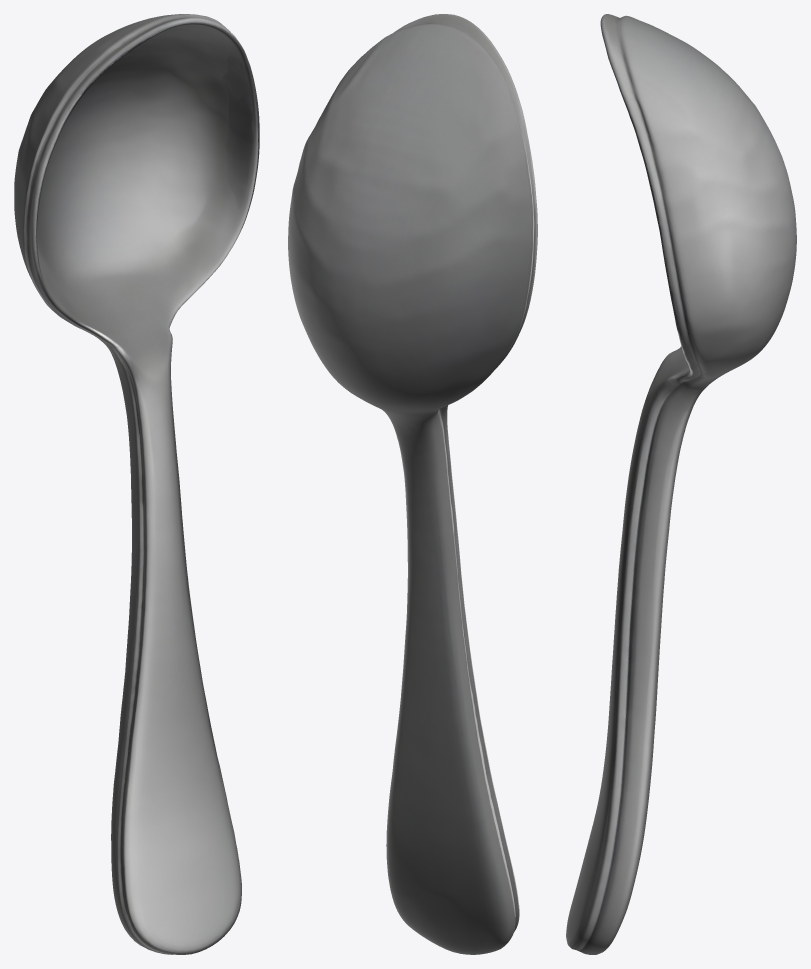
Rendered from model_soup_spoon.glb.
3 views of the same model, side by side, from view 1: azimuth 30°, elevation 25°; view 2: azimuth 150°, elevation 25°; view 3: azimuth 270°, elevation 25° (orthographic).
Visible parts, largest first — view 1: tripo_node_5f3cf43e-9ac9-4306-95a1-5d86b9e7162e; view 2: tripo_node_5f3cf43e-9ac9-4306-95a1-5d86b9e7162e; view 3: tripo_node_5f3cf43e-9ac9-4306-95a1-5d86b9e7162e.
Boxes of the visible parts, x1=… form: tripo_node_5f3cf43e-9ac9-4306-95a1-5d86b9e7162e: x1=14, y1=14, x2=259, y2=954; tripo_node_5f3cf43e-9ac9-4306-95a1-5d86b9e7162e: x1=288, y1=14, x2=537, y2=954; tripo_node_5f3cf43e-9ac9-4306-95a1-5d86b9e7162e: x1=566, y1=14, x2=796, y2=954.
Bounding box in the file's own units: 0.2586 × 0.9995 × 0.2256.
Materials: 1 (1 with a texture image).
